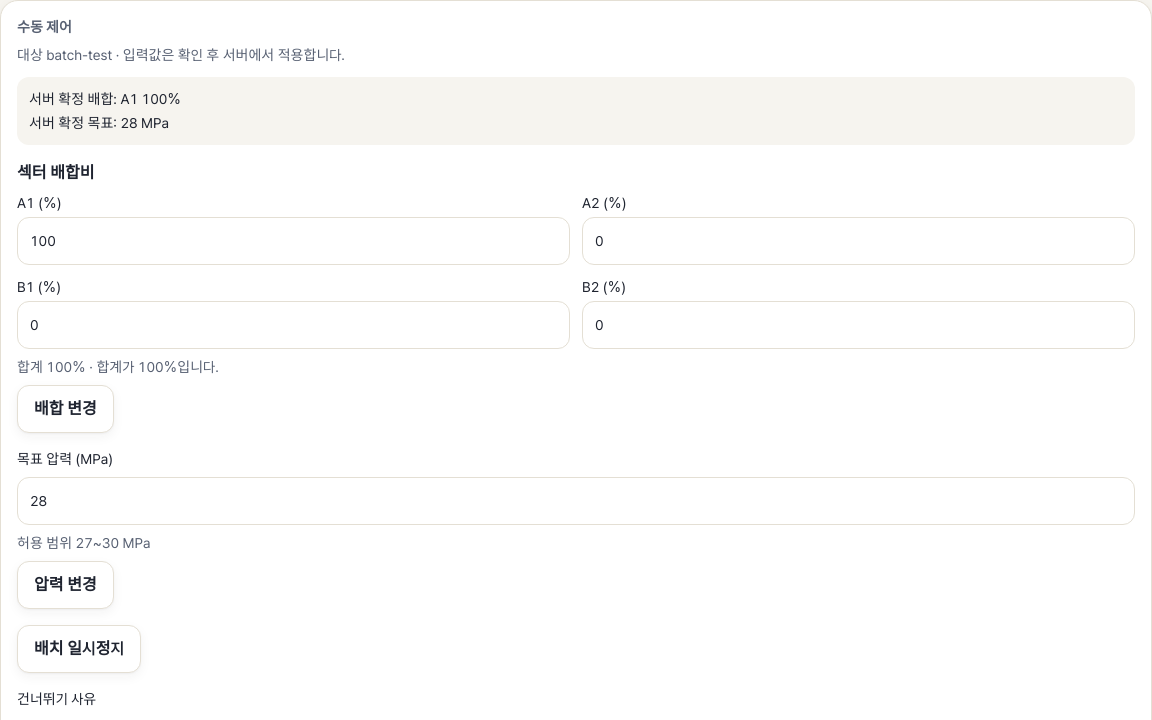
Scenario: 배치 수동 제어 › 합계와 압력 범위를 검증하고 확인 전에는 전송하지 않는다
Replace the text in the number field labelled "A1 (%)" with "80". click: (294, 241)
box: [17,217,570,265]
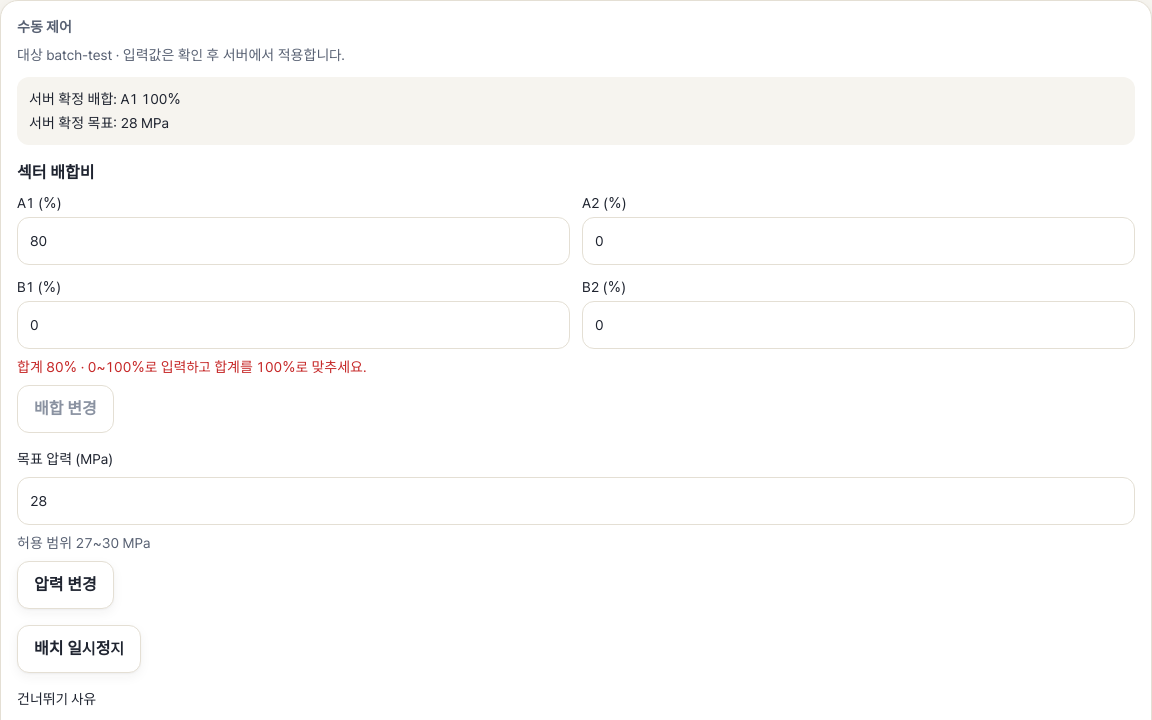
Expected: the text "합계 80% · 0~100%로 입력하고 합계를 100%로 맞추세요." is shown, [17,359,366,375]
Expected: the button "배합 변경" is disabled, [17,385,114,433]
Replace the text in the number field labelled "A2 (%)" with "20". click: (858, 241)
box: [582,217,1135,265]
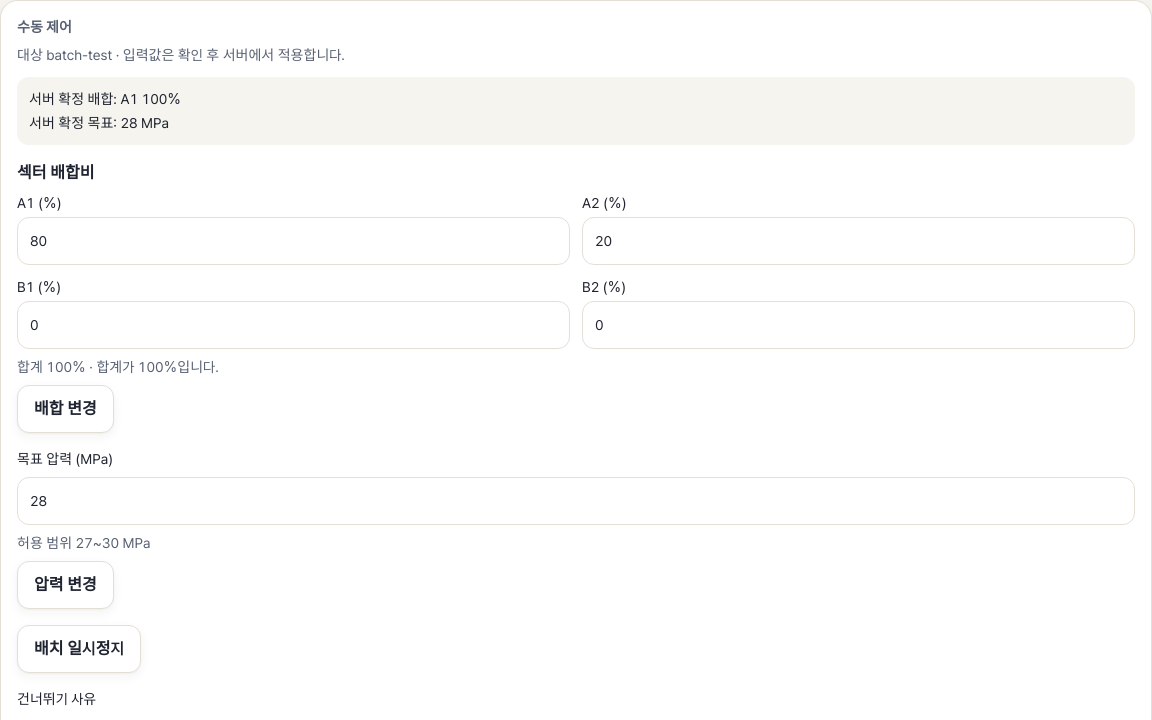
Click the button "배합 변경". click: click(65, 409)
box: [17,385,114,433]
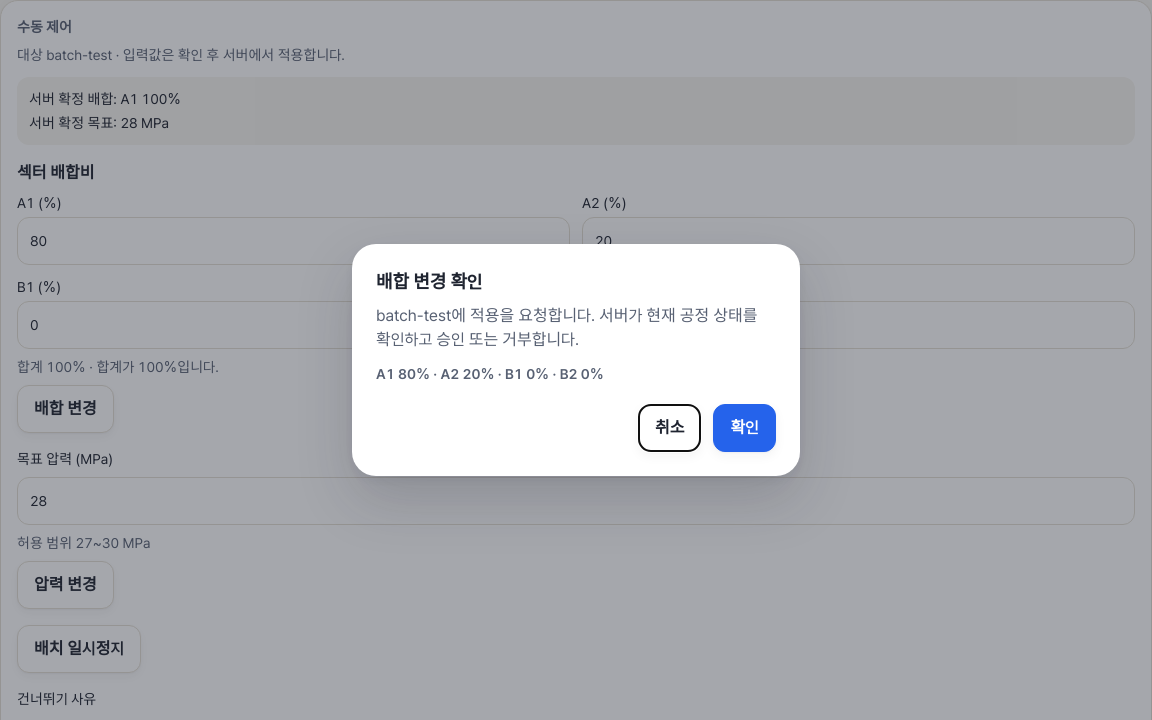
Click the button "확인". click: click(745, 428)
box: [713,404,776,452]
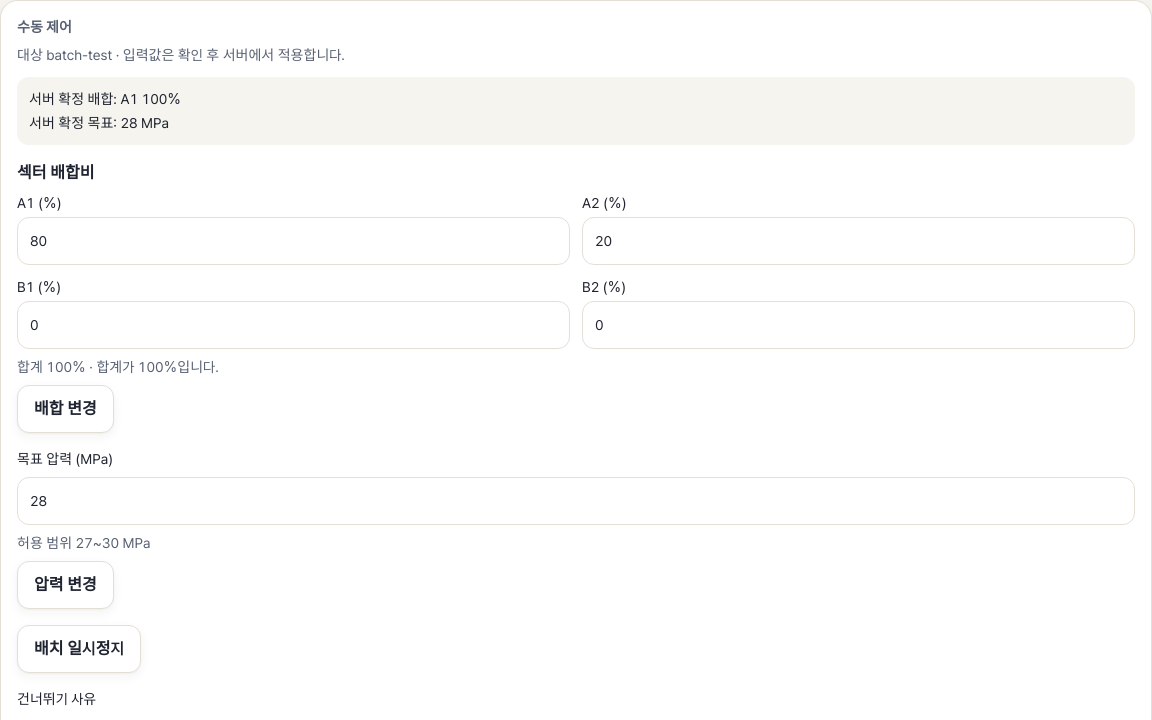
Replace the text in the number field labelled "목표 압력 (MPa)" with "31". click: (576, 501)
box: [17,477,1135,525]
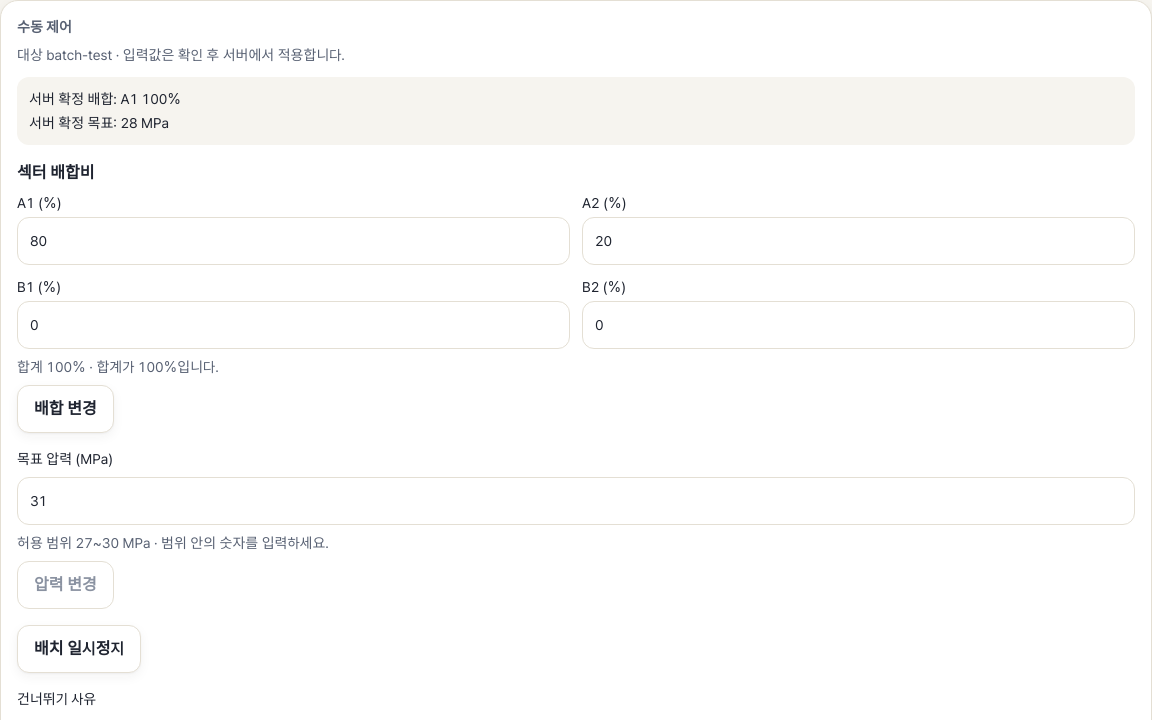
Expected: the button "압력 변경" is disabled, [17,561,114,609]
